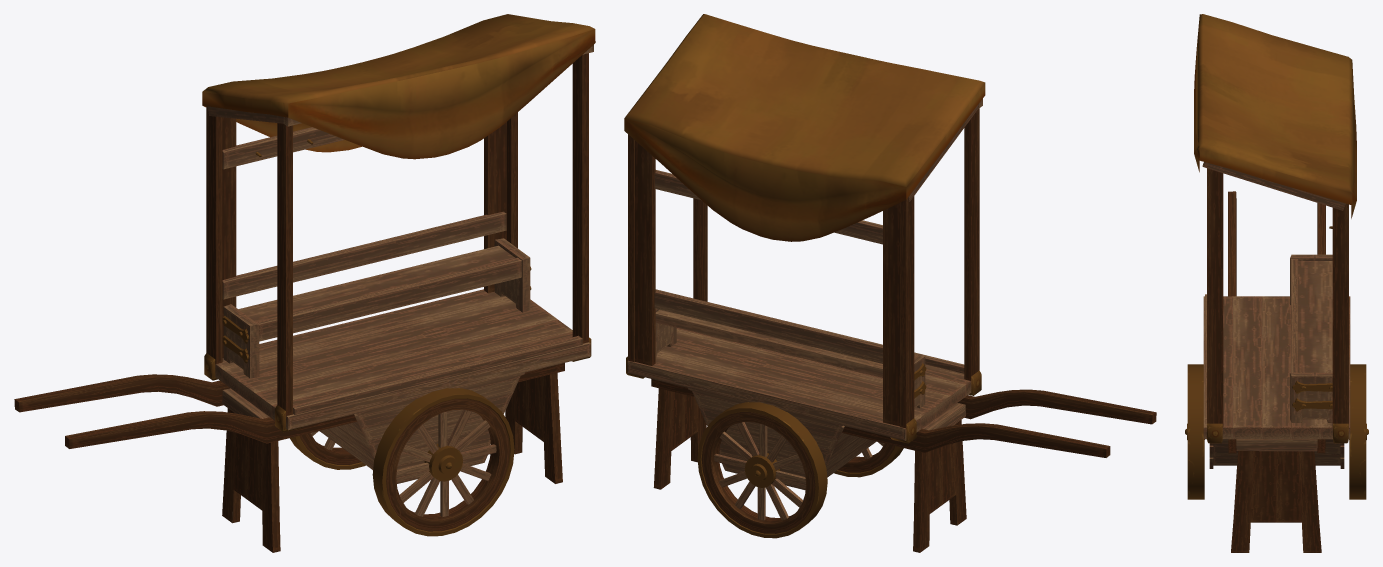
The model's file is Stall_Cart_Empty.gltf.
The picture shows the model from 3 angles, left to right: view 1: azimuth 30°, elevation 25°; view 2: azimuth 150°, elevation 25°; view 3: azimuth 270°, elevation 25°; orthographic projection. The views are drawn at different scales.
Visible parts, largest first — view 1: Stall_Cart_Empty; view 2: Stall_Cart_Empty; view 3: Stall_Cart_Empty.
Boxes of the visible parts, x1=… form: Stall_Cart_Empty: x1=14, y1=14, x2=595, y2=552; Stall_Cart_Empty: x1=624, y1=14, x2=1156, y2=552; Stall_Cart_Empty: x1=1185, y1=14, x2=1368, y2=552.
Size of the model in its own units: 3.02 by 2.63 by 1.06.
3 materials, 3 textured.
